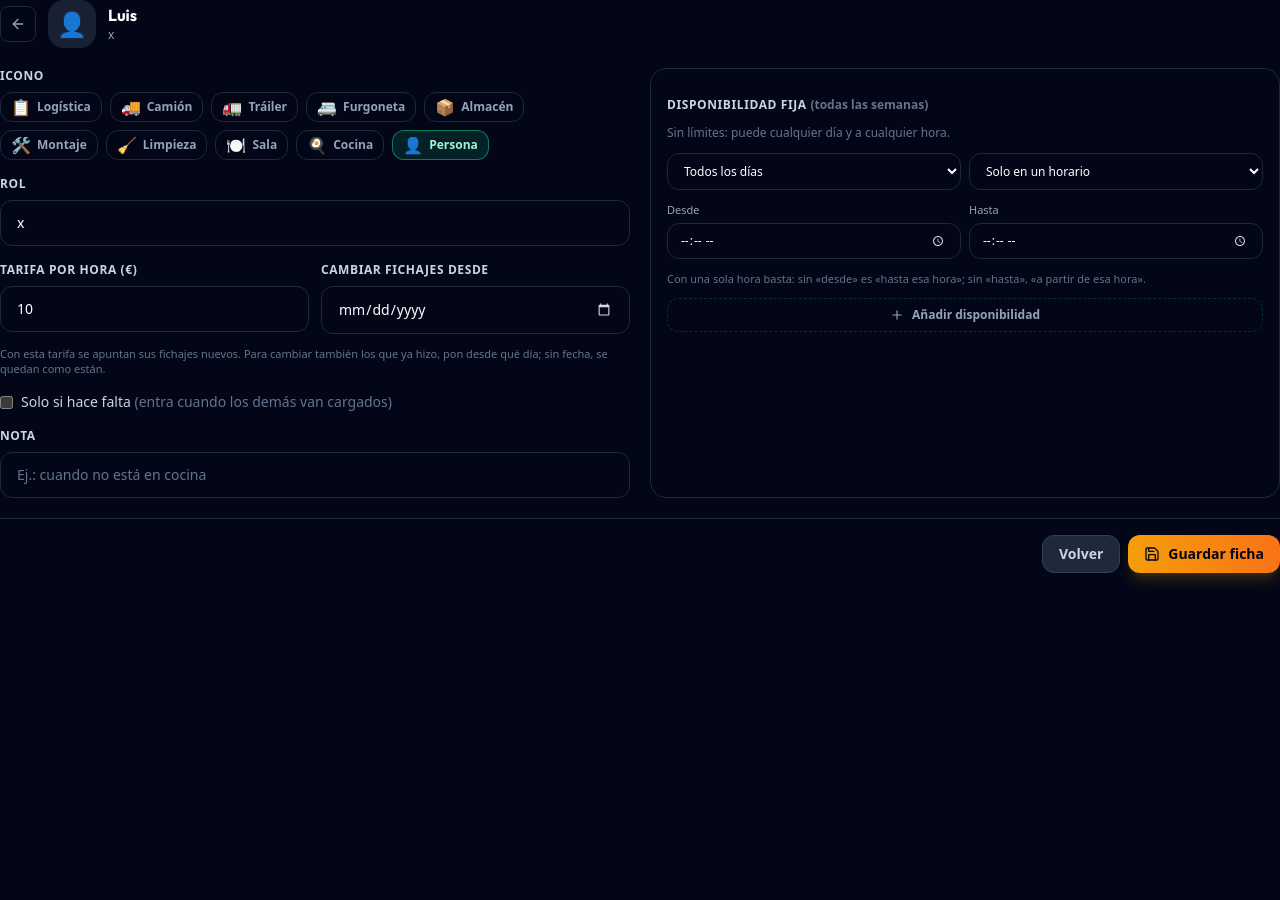
FichaTrabajador — grupos de días › tarifa por hora › si se cancela el aviso, no se guarda nada
Replace the text in the number field labelled "Tarifa por hora (€)" with "12". click: (154,309)
box: [0,286,309,332]
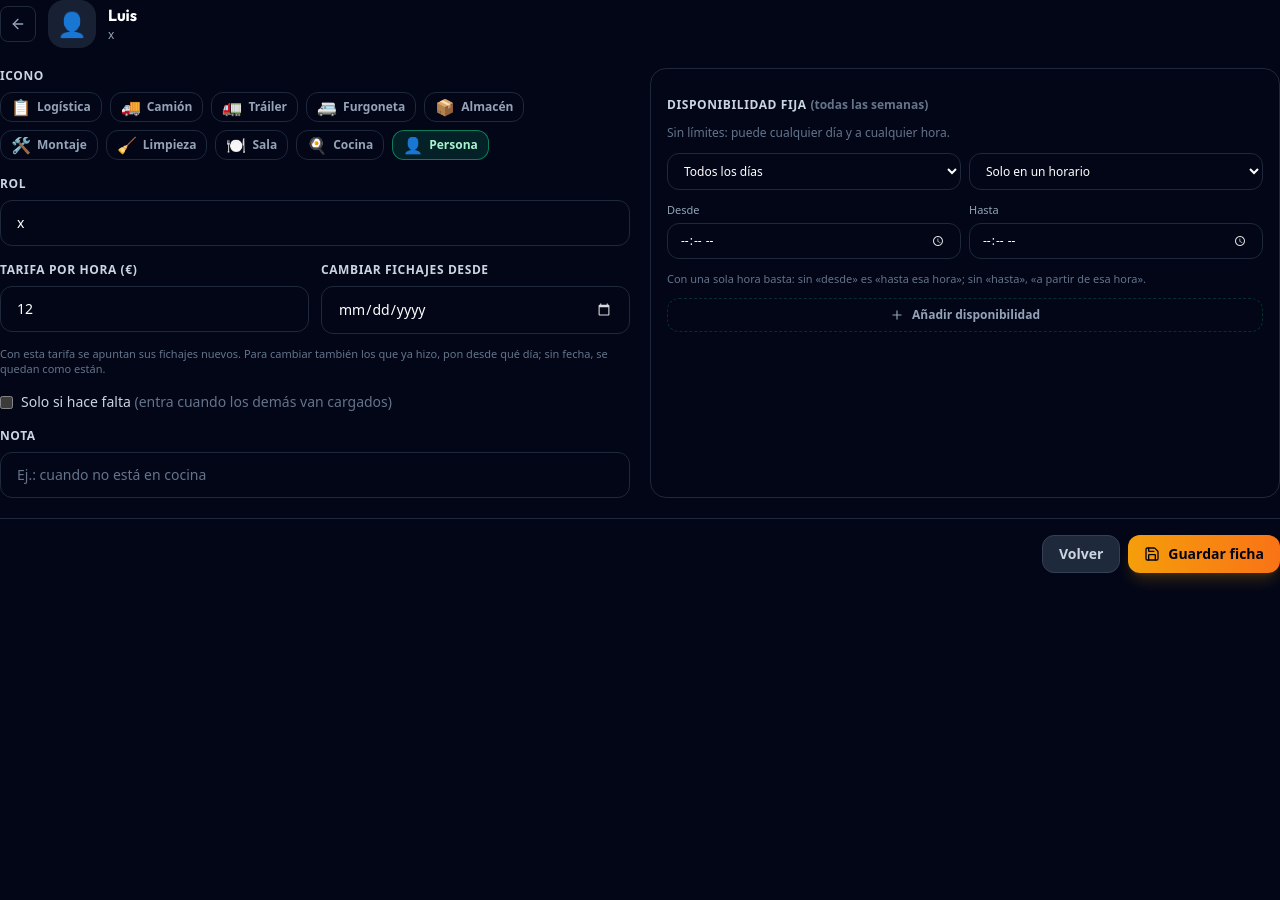
Type "2026-10-04" into the date field labelled "Cambiar fichajes desde". click: (476,310)
box: [321,286,630,334]
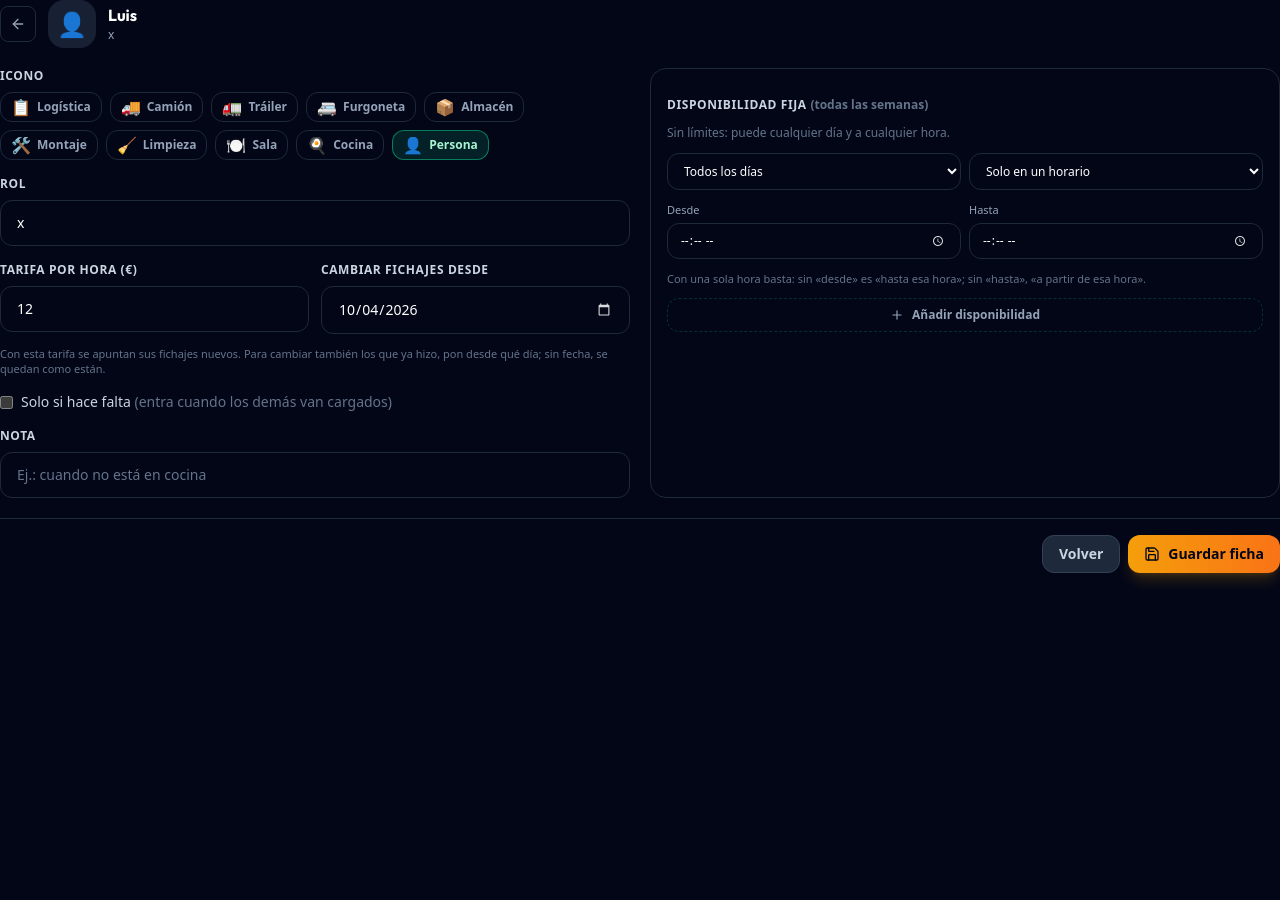
Click the button "Guardar ficha". click: (1204,554)
box: [1128,535,1279,573]
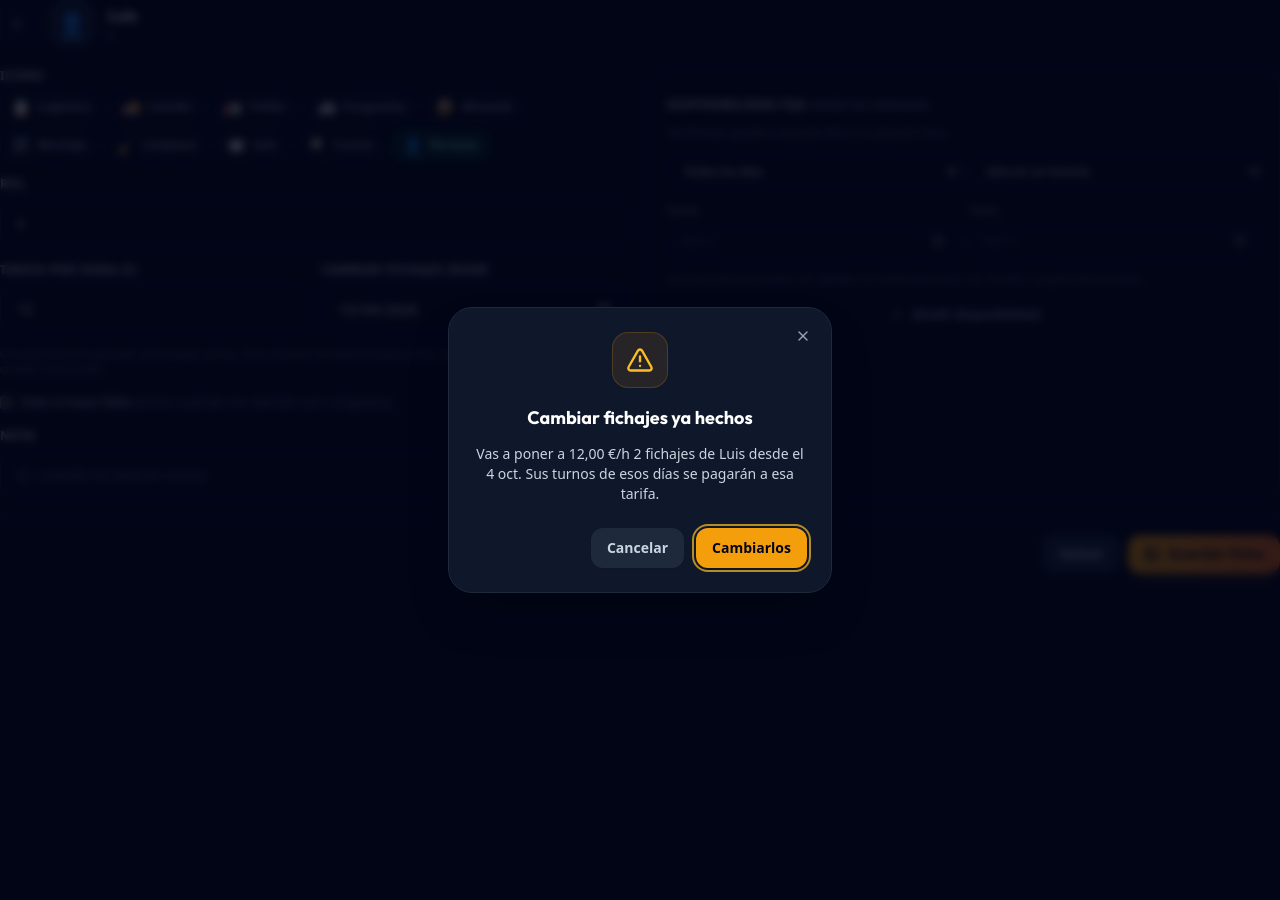
Expected: the text "Vas a poner a 12,00 €/h" is shown, [476,444,804,503]
Click the button "Cancelar". click: (637,548)
box: [591,528,684,568]
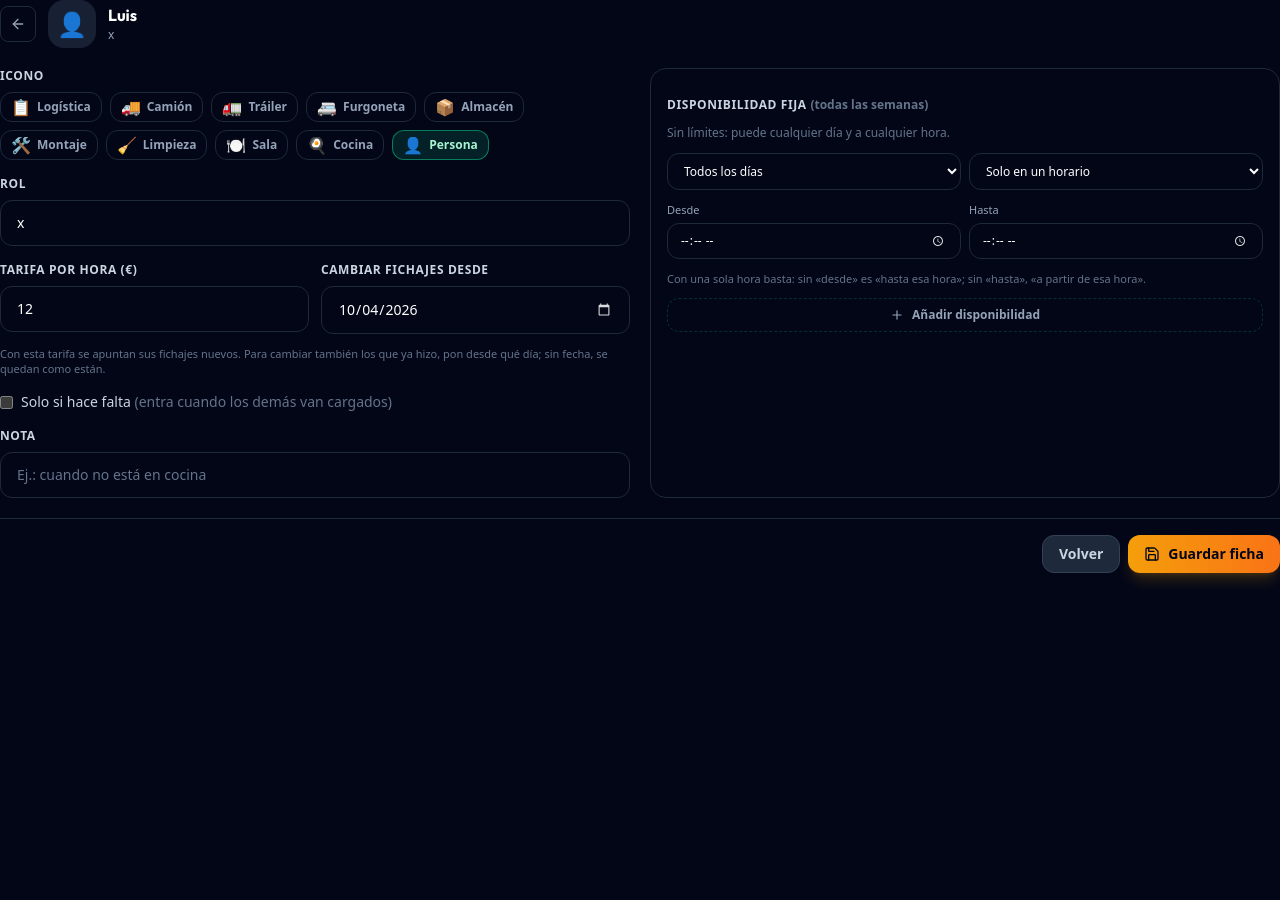
Expected: the text "Vas a poner a 12,00 €/h" is gone
